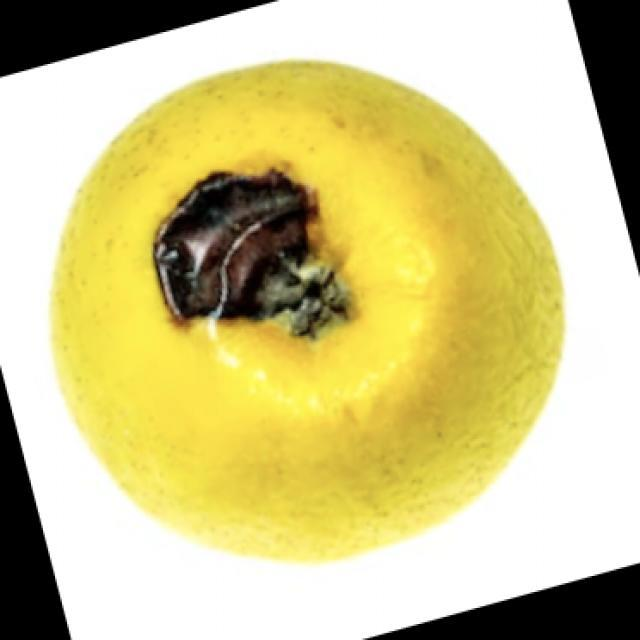Rotten: (63, 64, 562, 544)
